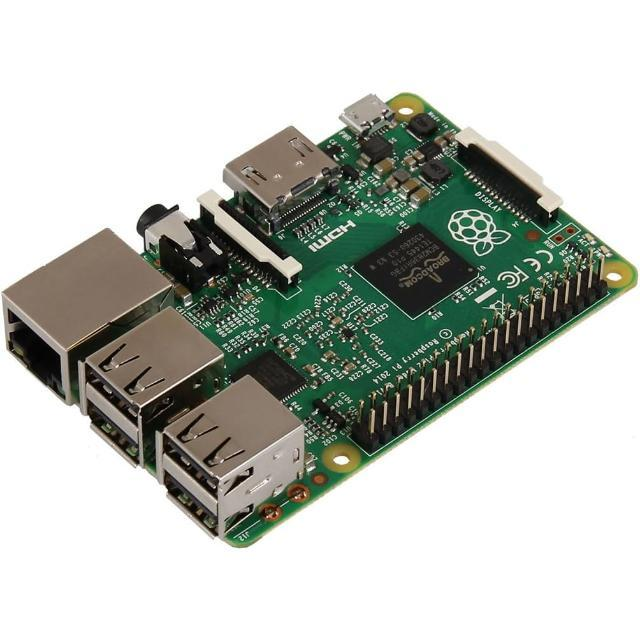Raspberry-Pi-2-B: (4, 94, 635, 544)
